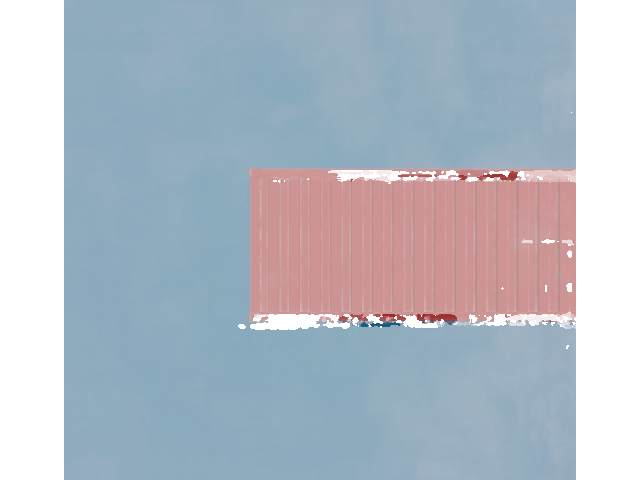container5: (250, 162, 637, 321)
